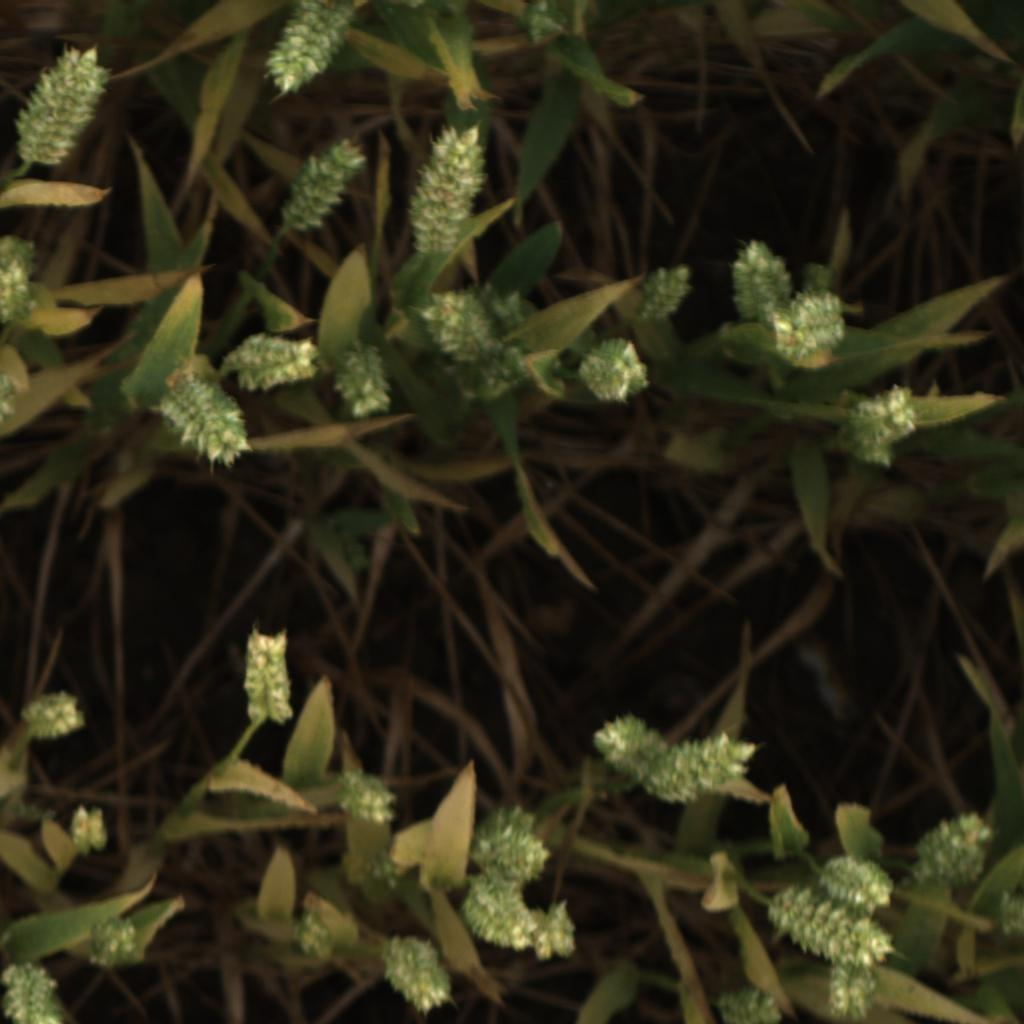0-0: (10, 43, 123, 175), (745, 880, 901, 969), (402, 121, 496, 256), (446, 277, 550, 397), (146, 368, 259, 476), (644, 731, 767, 813), (274, 133, 369, 238), (262, 10, 354, 99), (904, 810, 1002, 893), (231, 622, 302, 734), (414, 281, 502, 366), (841, 384, 924, 473), (718, 234, 797, 326), (222, 327, 327, 395), (467, 803, 555, 881), (381, 928, 457, 1018), (774, 289, 858, 370), (575, 334, 660, 408), (460, 874, 537, 953), (818, 837, 900, 910), (327, 765, 409, 834), (588, 704, 659, 782), (331, 345, 401, 422), (17, 683, 92, 749), (629, 259, 702, 326), (0, 957, 69, 1024), (54, 801, 123, 866), (82, 910, 149, 974), (0, 231, 46, 324), (521, 901, 588, 964), (822, 960, 881, 1024), (716, 980, 789, 1024), (284, 907, 336, 963)
